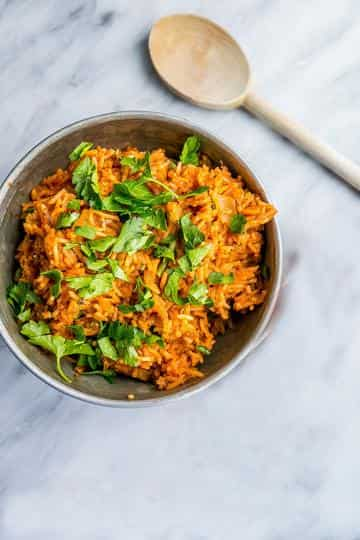plain spaghetti: (39, 222, 231, 360)
